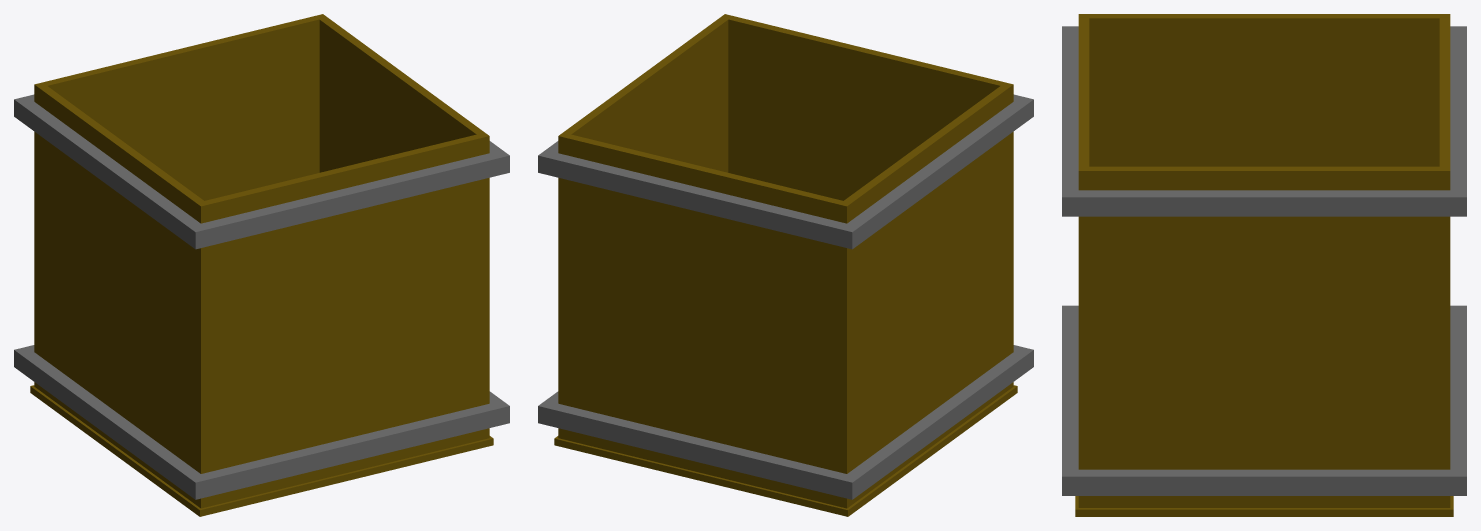
Rendered from BoxOpened.fbx.
3 views of the same model, side by side, from view 1: azimuth 30°, elevation 25°; view 2: azimuth 150°, elevation 25°; view 3: azimuth 270°, elevation 25° (orthographic). The views are drawn at different scales.
Parts seen in each view (by area): view 1: pCube1; view 2: pCube1; view 3: pCube1.
Part boxes in pixels (x1=…): pCube1: x1=14, y1=14, x2=509, y2=516; pCube1: x1=538, y1=14, x2=1033, y2=516; pCube1: x1=1062, y1=14, x2=1466, y2=516.
Bounding box in the file's own units: 12.25 × 11.5 × 12.25.
